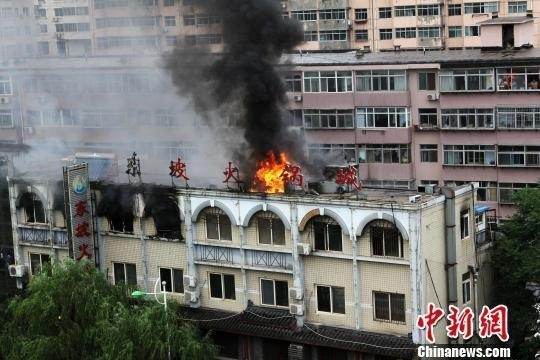fire: (251, 149, 295, 195)
